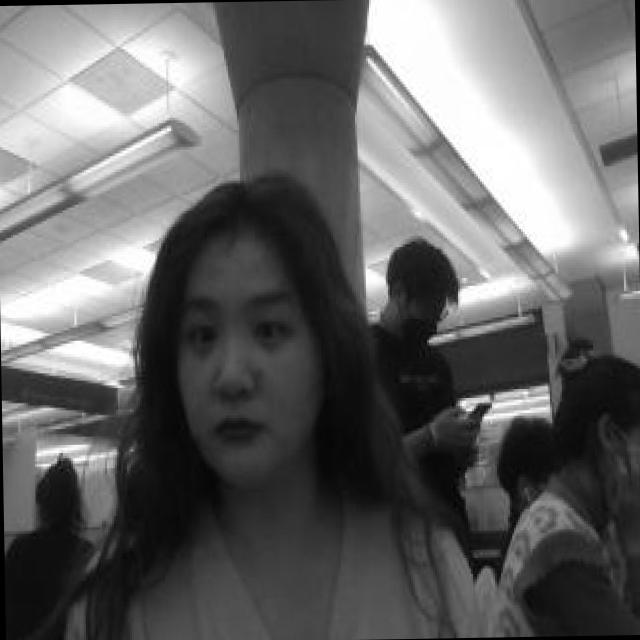Focused: (162, 233, 328, 502)
